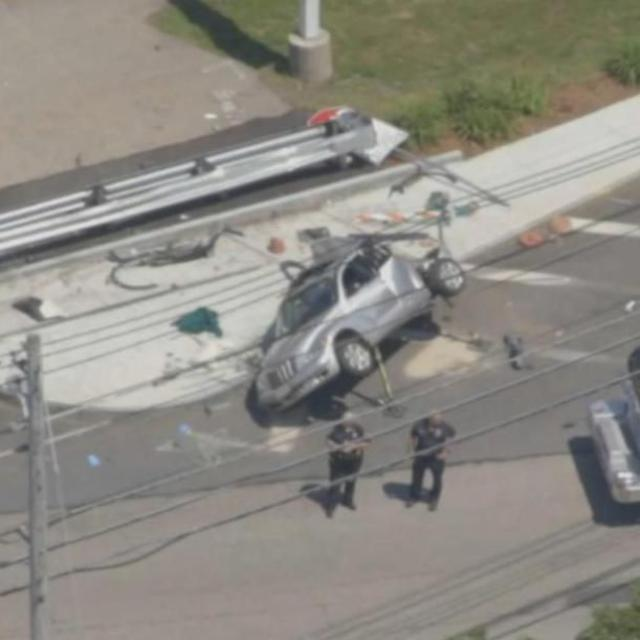traffic_incident: (243, 194, 449, 418)
